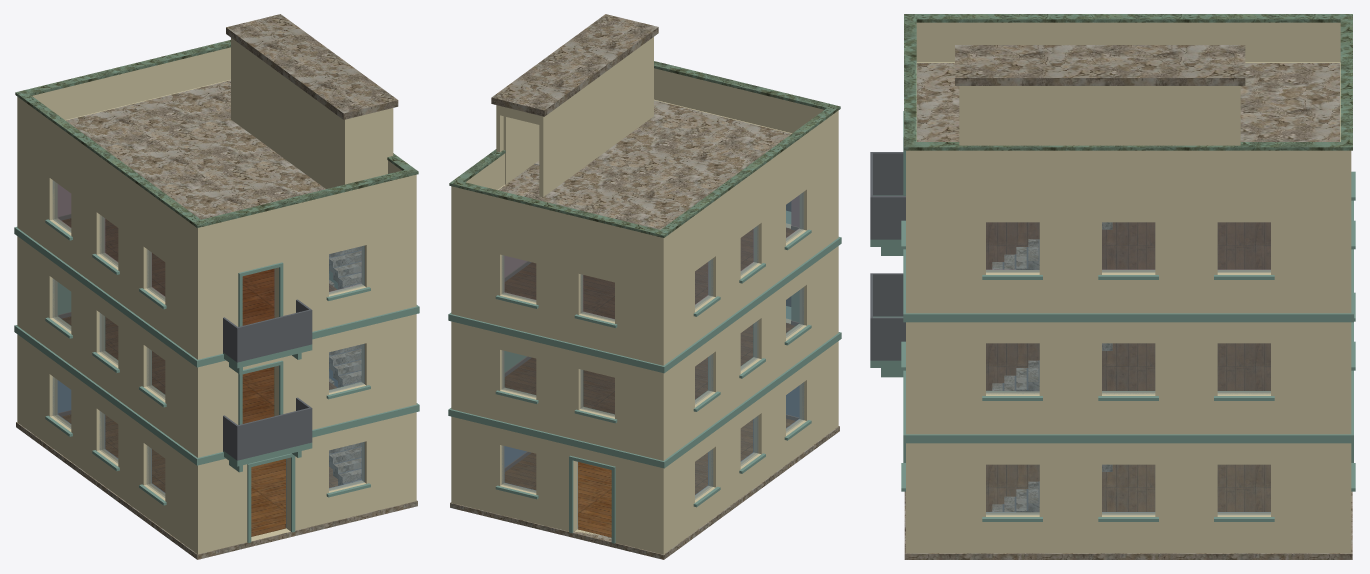
Rendered from bay-townhouse-yellow.coast-v2.lod0.glb.
The picture shows the model from 3 angles, left to right: view 1: azimuth 30°, elevation 25°; view 2: azimuth 150°, elevation 25°; view 3: azimuth 270°, elevation 25°; orthographic projection. The views are drawn at different scales.
Visible parts, largest first — view 1: bay-townhouse-yellow; view 2: bay-townhouse-yellow; view 3: bay-townhouse-yellow.
Boxes of the visible parts, x1=… form: bay-townhouse-yellow: x1=14, y1=14, x2=419, y2=559; bay-townhouse-yellow: x1=448, y1=14, x2=841, y2=559; bay-townhouse-yellow: x1=870, y1=14, x2=1355, y2=559.
Bounding box in the file's own units: 7.2 × 11.95 × 10.9.
4 materials, 2 textured.
